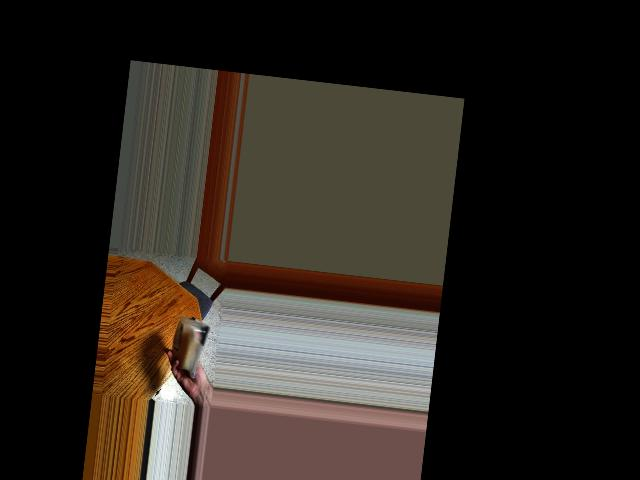cheese: (171, 319, 206, 369)
